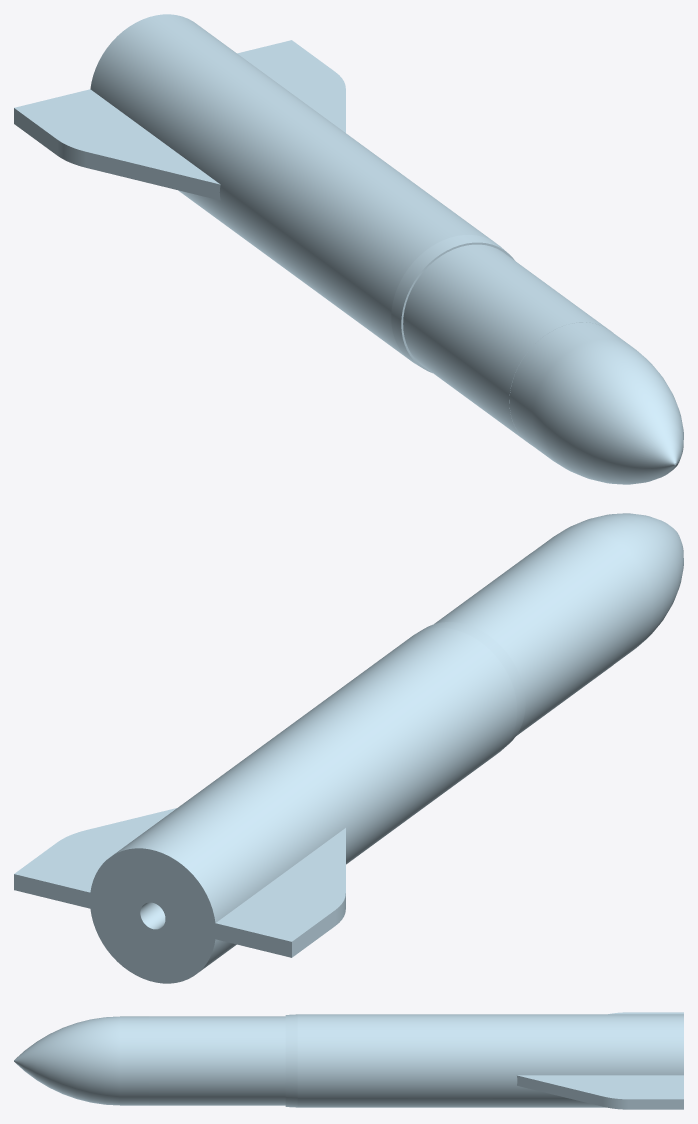
File: SpinV.gltf
3 views of the same model, one above another, from view 1: azimuth 30°, elevation 25°; view 2: azimuth 150°, elevation 25°; view 3: azimuth 270°, elevation 25° (orthographic). The views are drawn at different scales.
Parts seen in each view (by area): view 1: Part 1; view 2: Part 1; view 3: Part 1.
Part boxes in pixels (x1=…): Part 1: x1=14, y1=14, x2=683, y2=484; Part 1: x1=14, y1=513, x2=683, y2=983; Part 1: x1=14, y1=1012, x2=683, y2=1109.
Size of the model in its own units: 0.0441 by 0.02 by 0.1436.
